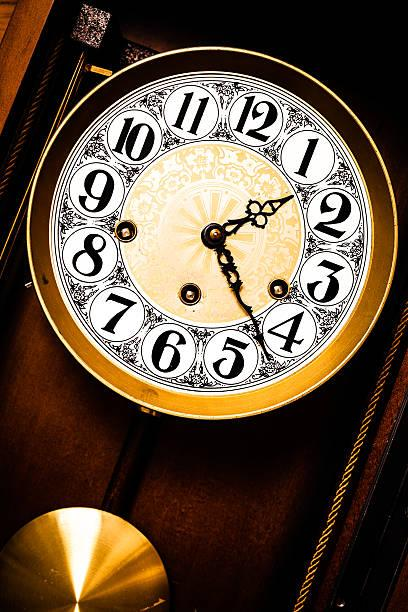clock: (26, 49, 401, 420)
